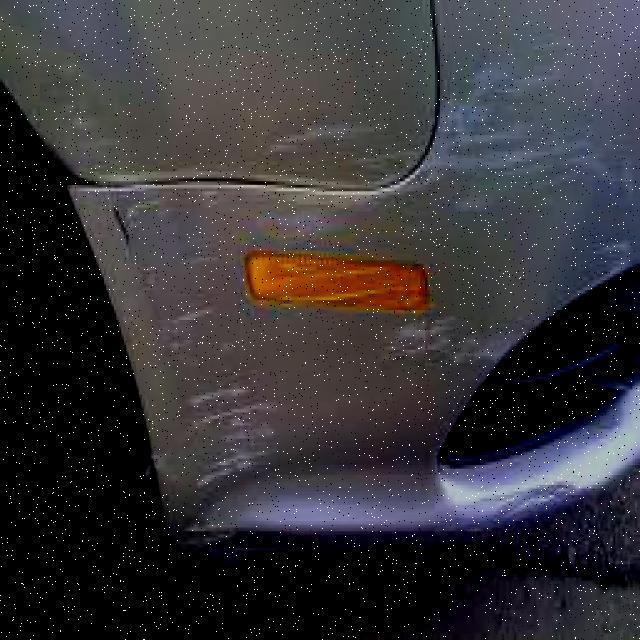car damage: (52, 35, 635, 561)
